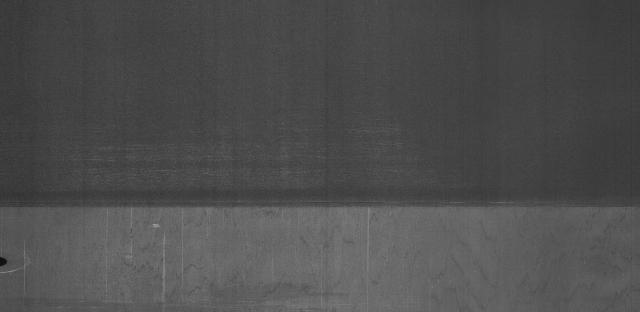welding_line: (4, 191, 640, 221)
